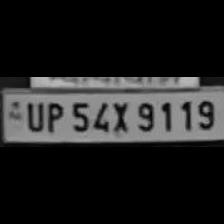1: (156, 98, 176, 132), (175, 97, 193, 132)
4: (91, 97, 111, 132)
5: (65, 97, 90, 132)
9: (130, 97, 155, 132), (192, 96, 216, 130)
P: (42, 98, 64, 132)
U: (22, 99, 44, 131)
X: (109, 99, 131, 134)
